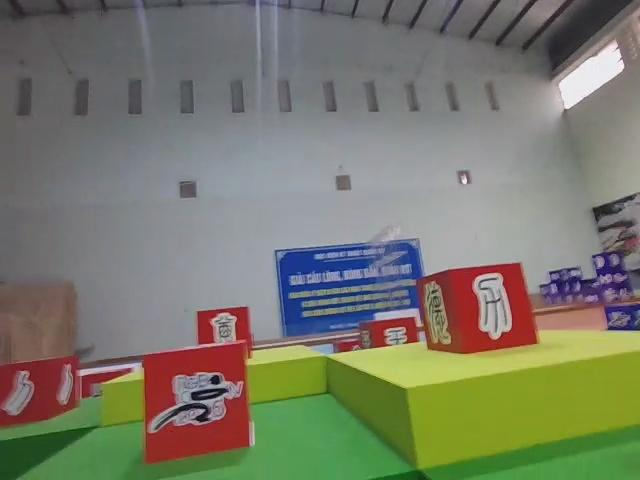R1: (141, 337, 253, 463)
R2 Fake: (414, 259, 540, 354)
R2 Real: (0, 352, 80, 428)
